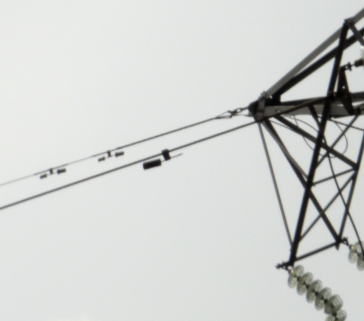damper: (38, 165, 68, 180), (96, 148, 125, 163)
damper_defect: (141, 149, 185, 172)
